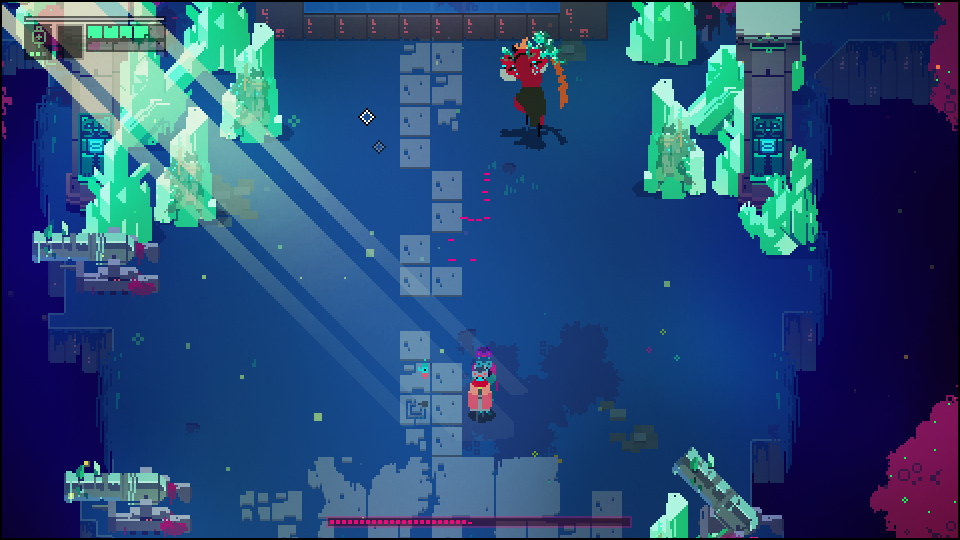hanged_man: (493, 34, 574, 137)
player: (466, 363, 496, 422)
